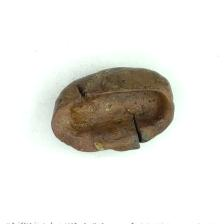NG: (50, 89, 172, 153)
